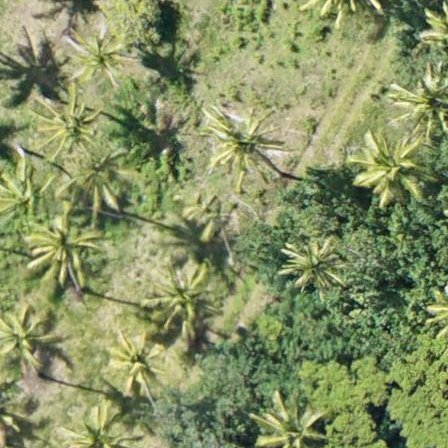palm_tree: (64, 18, 135, 93), (29, 215, 95, 283), (151, 261, 216, 330), (351, 134, 415, 202), (285, 232, 348, 299), (61, 147, 123, 211), (1, 157, 49, 230), (42, 94, 98, 154), (255, 400, 323, 448), (107, 335, 164, 391), (396, 69, 448, 124), (219, 116, 270, 170), (1, 303, 47, 362), (59, 407, 125, 448)
